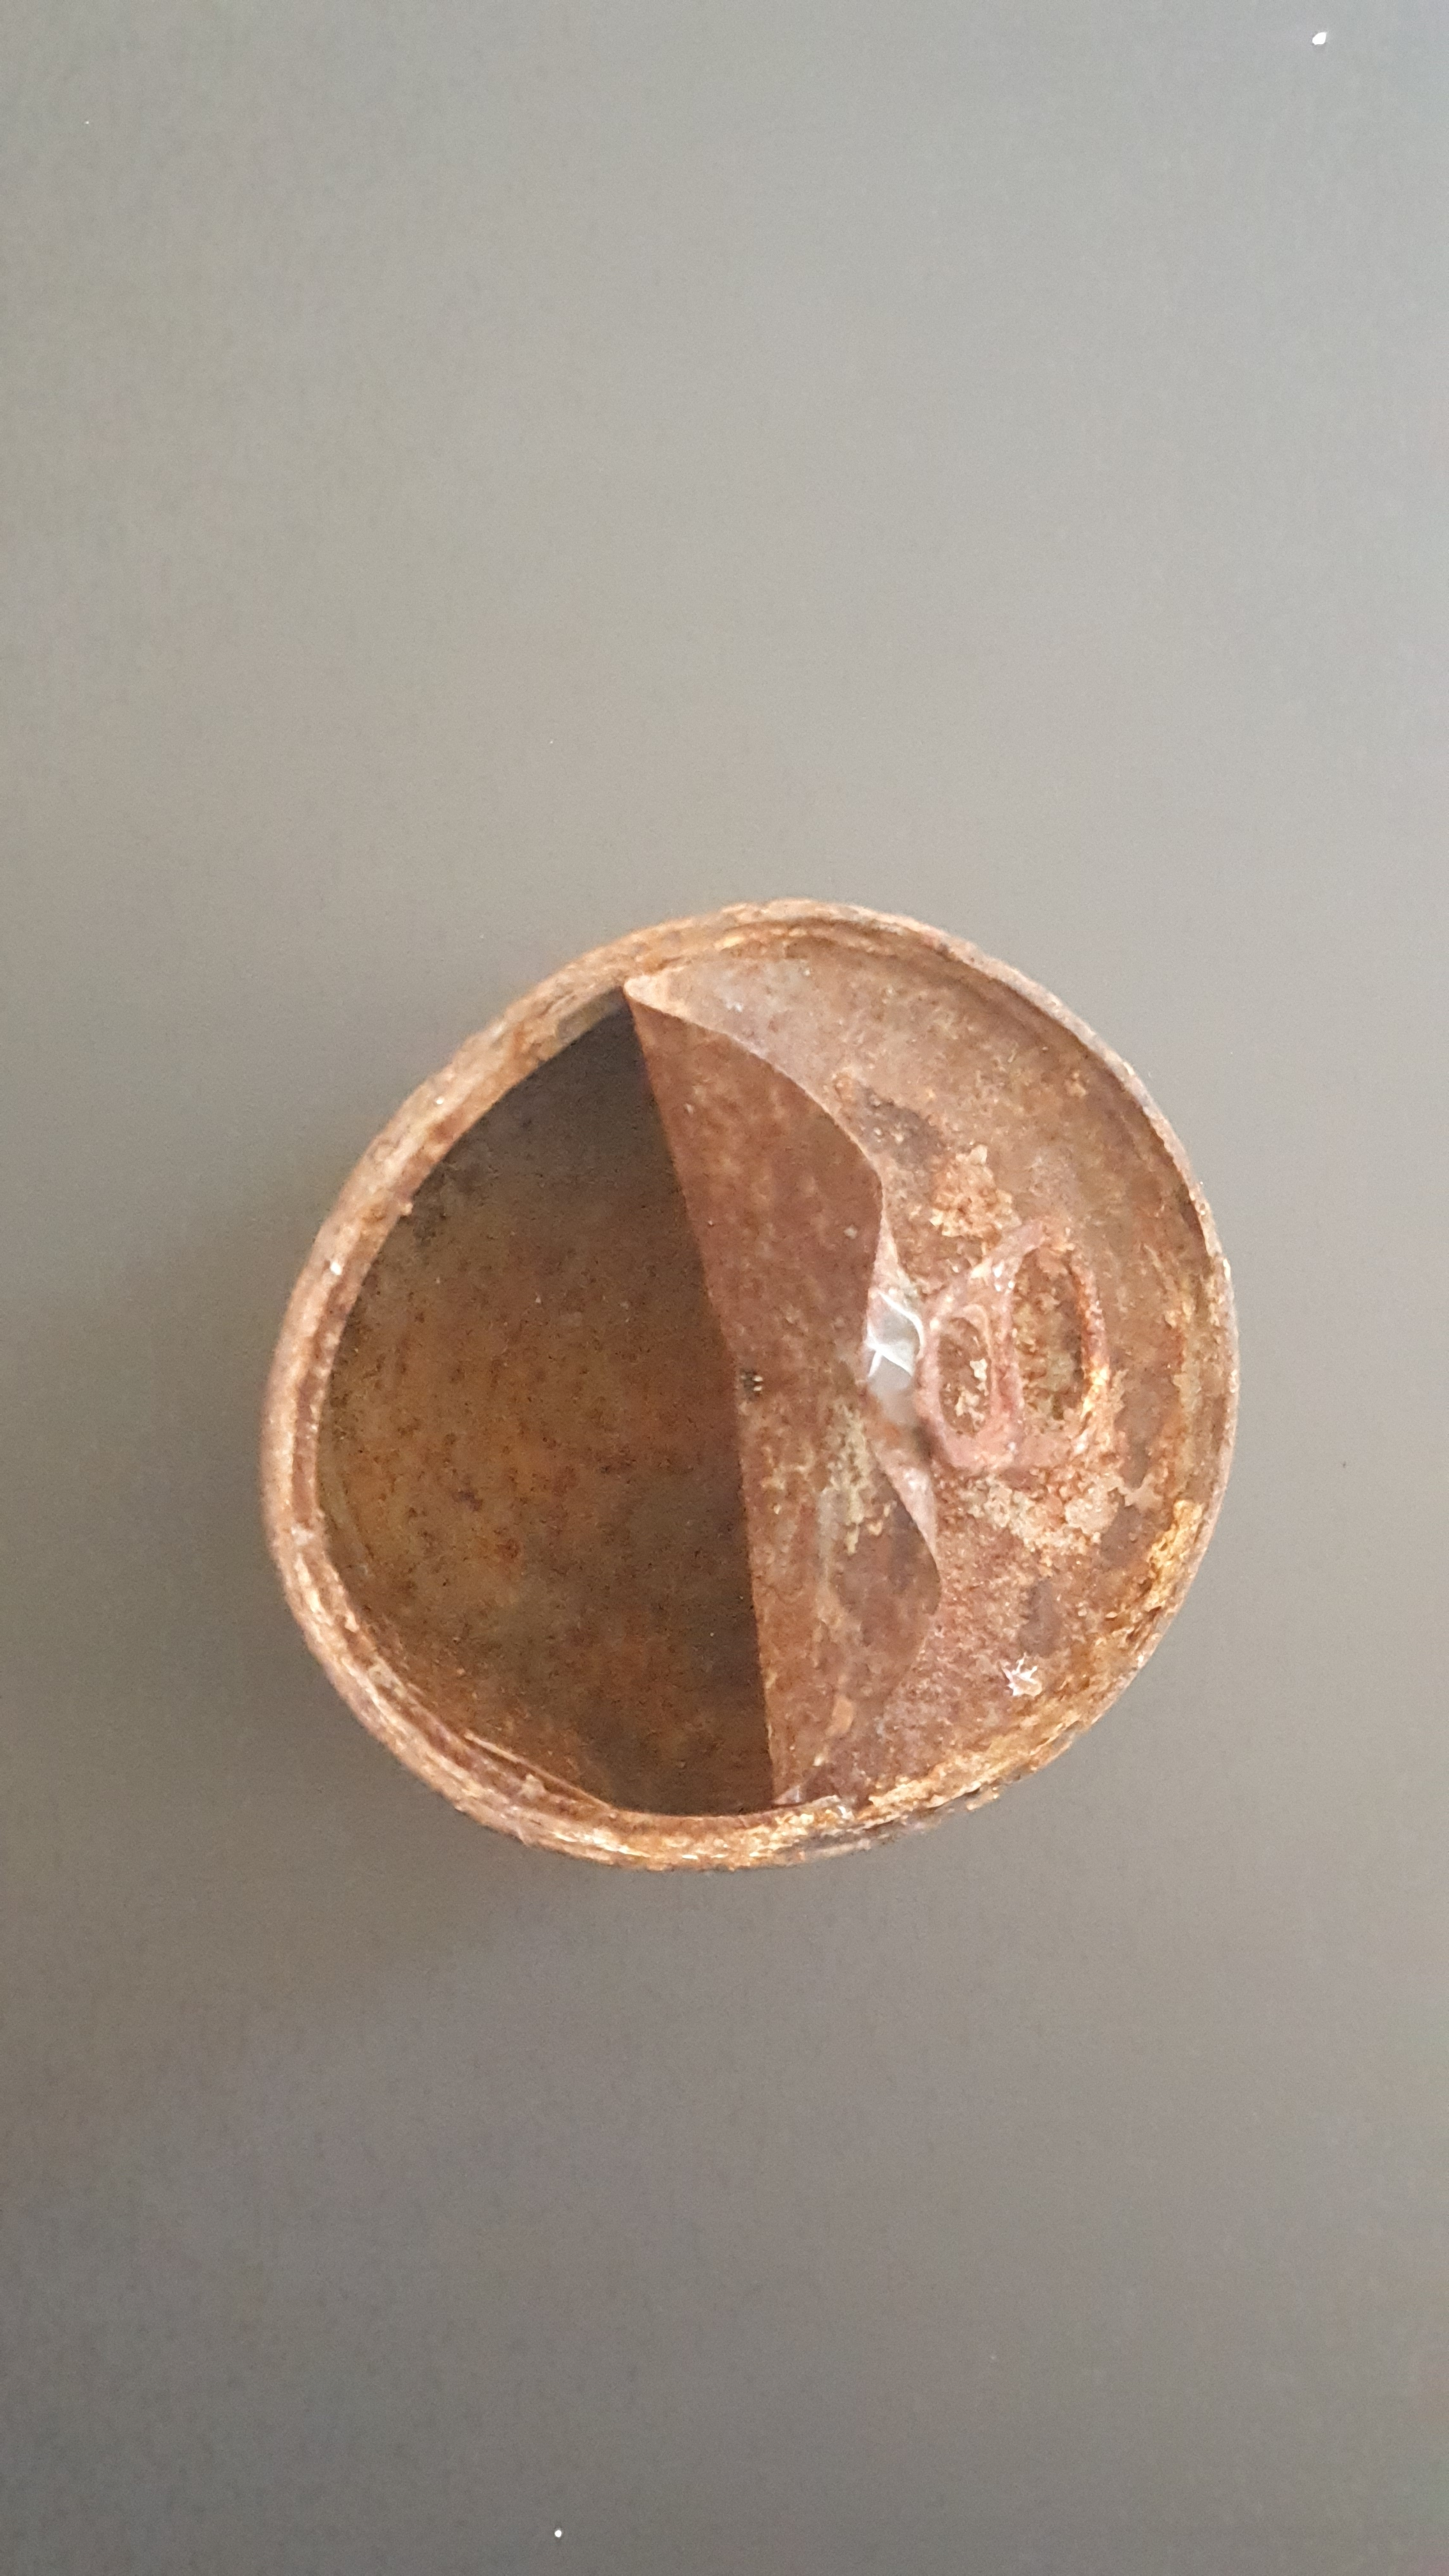metal: (202, 839, 1251, 1932)
